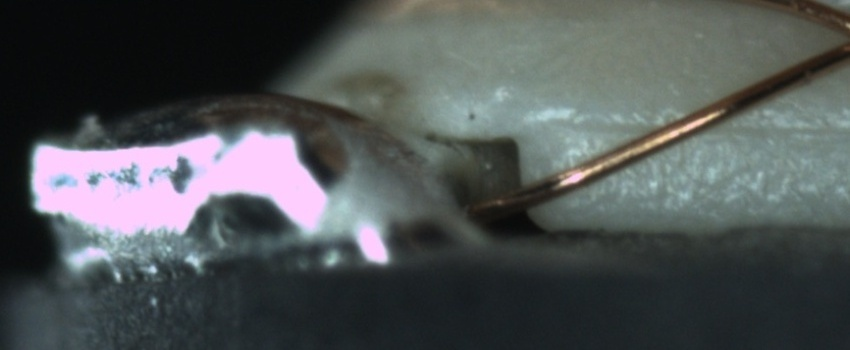DL: (558, 97, 850, 156)
